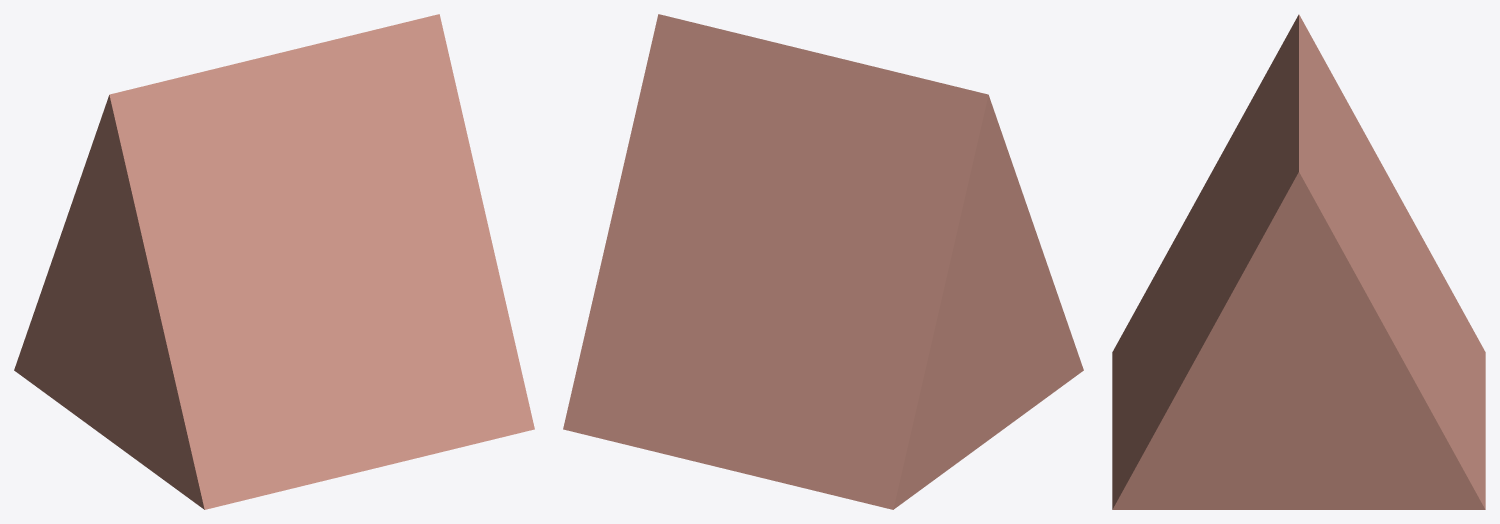
The model's file is gable_roof.glb.
3 views of the same model, side by side, from view 1: azimuth 30°, elevation 25°; view 2: azimuth 150°, elevation 25°; view 3: azimuth 270°, elevation 25° (orthographic). The views are drawn at different scales.
Visible parts, largest first — view 1: gable_roof; view 2: gable_roof; view 3: gable_roof.
Boxes of the visible parts, x1=… form: gable_roof: x1=14, y1=14, x2=534, y2=509; gable_roof: x1=563, y1=14, x2=1083, y2=509; gable_roof: x1=1112, y1=14, x2=1485, y2=509.
Bounding box in the file's own units: 1 × 1 × 1.
